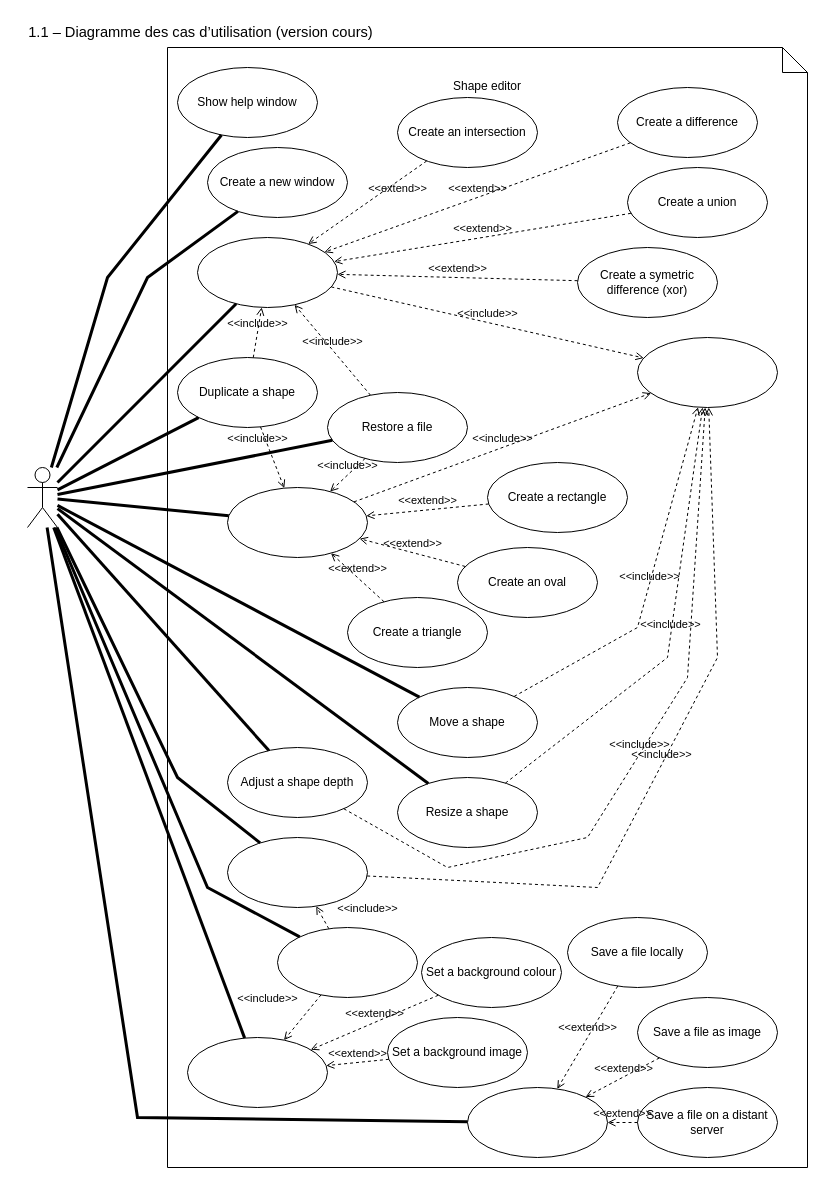
This 825x1185 diagram has some shape labels left out. Each missing label, with the centre of its shape:
"Change background" belongs at pixel 257 1072.
"Create a complex shape" belongs at pixel 267 272.
"Create a new canvas" belongs at pixel 347 962.
"Create a simple shape" belongs at pixel 297 522.
"Delete a shape" belongs at pixel 297 872.
"Draw a shape" belongs at pixel 707 372.
"Save a file" belongs at pixel 537 1122.
"User" belongs at pixel 42 497.
